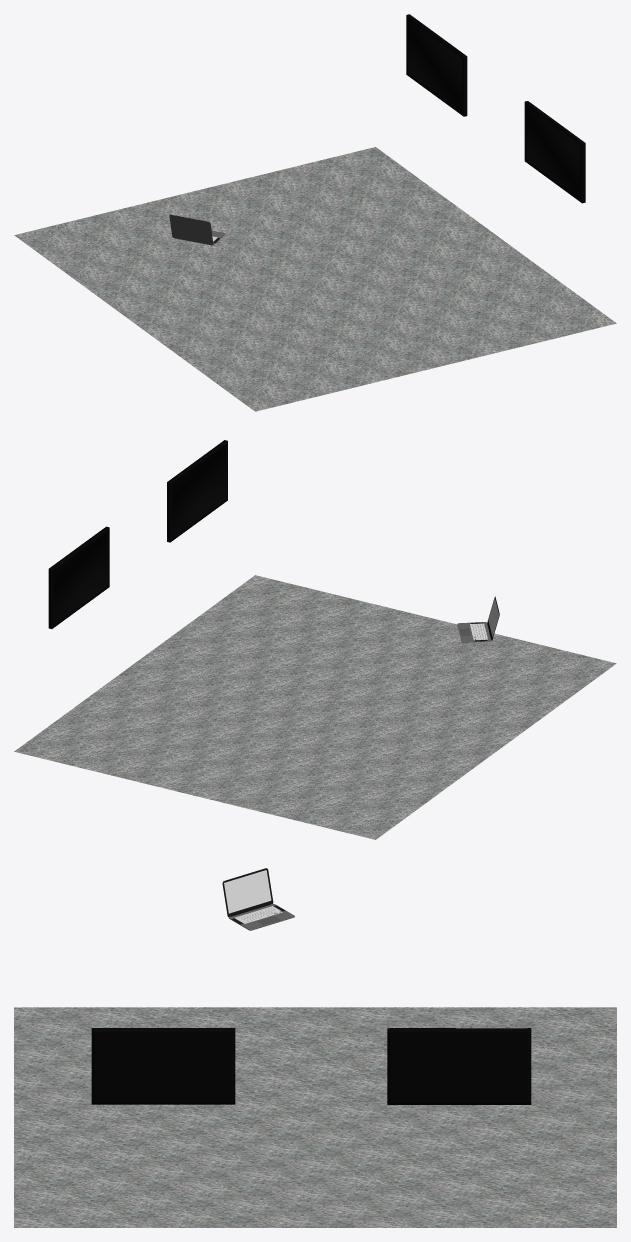
Rendered from navMesh-transformed.glb.
3 views of the same model, one above another, from view 1: azimuth 30°, elevation 25°; view 2: azimuth 150°, elevation 25°; view 3: azimuth 270°, elevation 25° (orthographic). The views are drawn at different scales.
Visible parts, largest first — view 1: floor, computer; view 2: floor, computer; view 3: floor, computer.
Boxes of the visible parts, bbox=[...] form: floor: bbox=[14, 147, 616, 411]; computer: bbox=[169, 14, 585, 245]; floor: bbox=[14, 575, 616, 839]; computer: bbox=[48, 440, 499, 642]; floor: bbox=[14, 1007, 616, 1227]; computer: bbox=[91, 868, 531, 1104].
Bounding box in the file's own units: 41.14 × 17.17 × 47.52.
4 materials, 4 textured.
